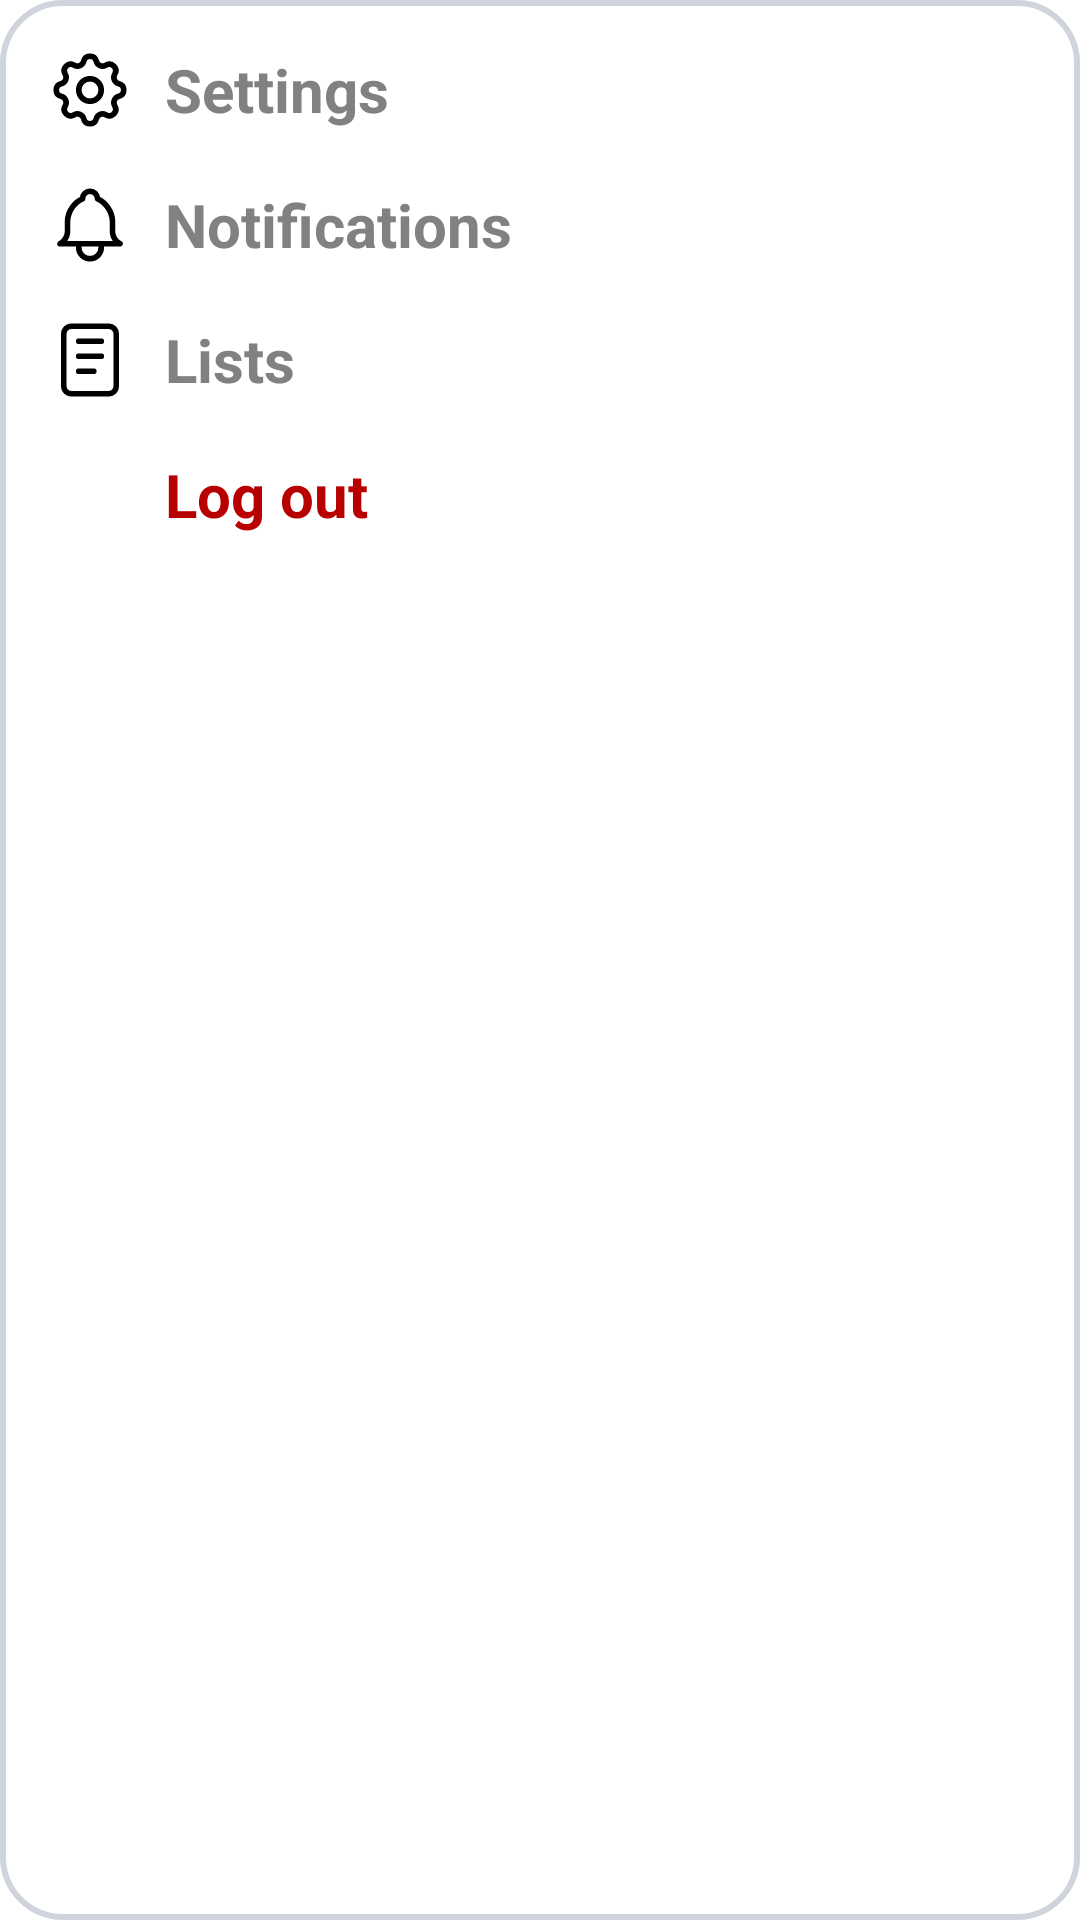

Screen size 1080 × 1920. Icon name, then its center in pixels as [x,y]:
bell: [90,225]
gear: [90,90]
whole list: [90,360]
